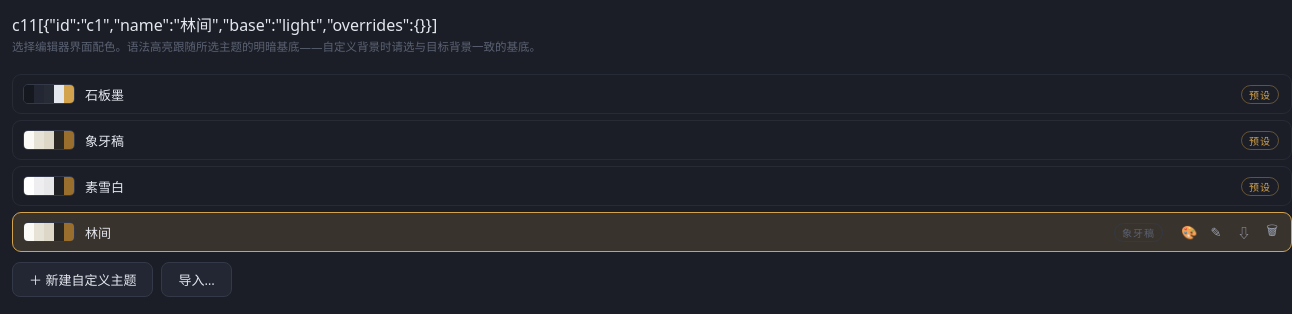
Test: AppearanceSettings › 删除活动自定义主题 → 回落其基底预设
Click the button named "删除 林间" at (1272, 232), box [1259, 219, 1285, 245]
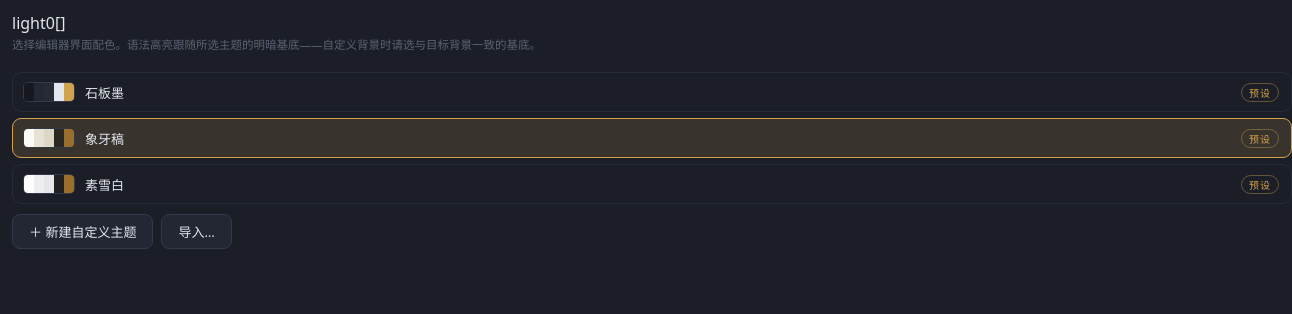
Result: the text with test id "active" reads "light" at [12, 12, 46, 34]
